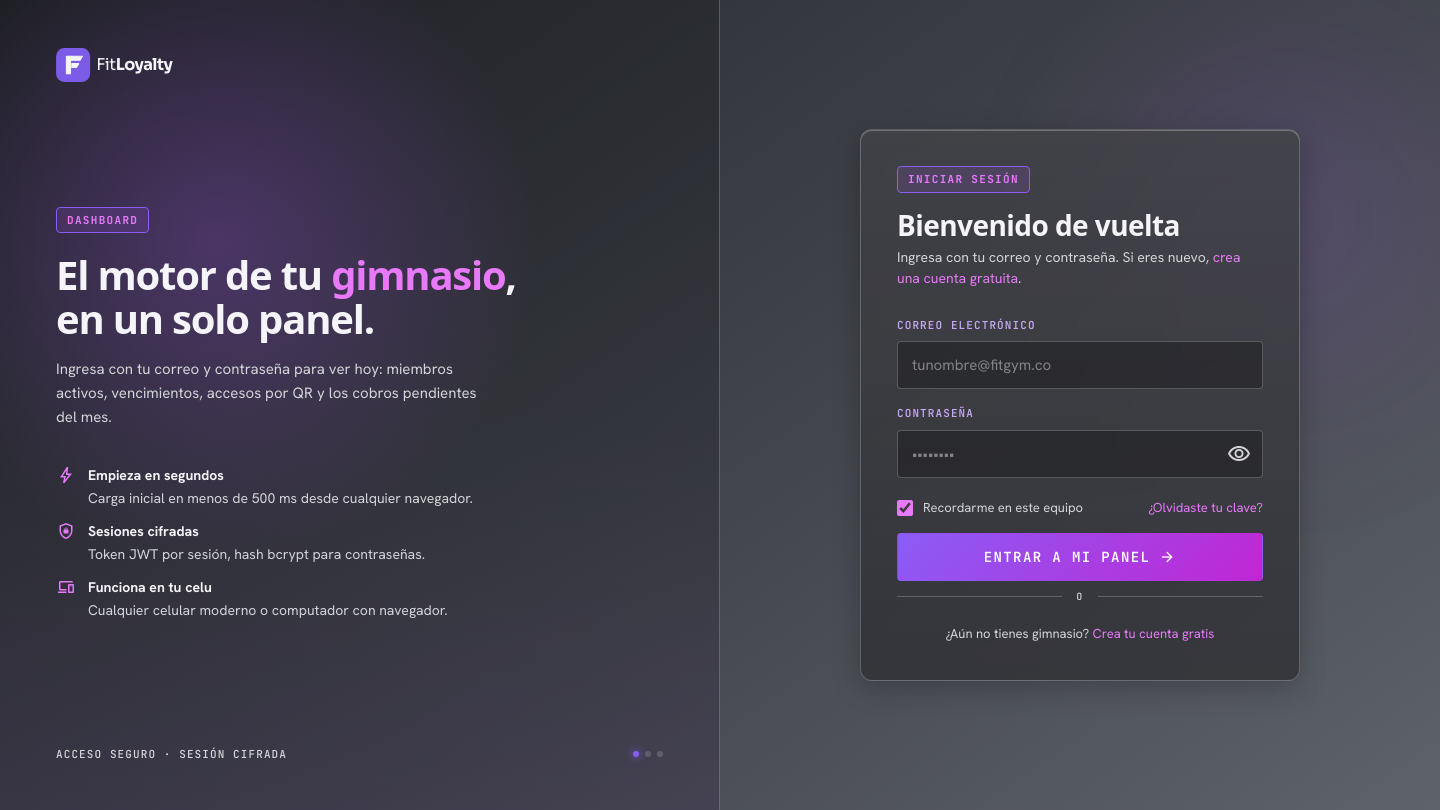
Test: LoginPage › should show and hide the password with the eye button
In the password field labelled "Contraseña": {"x": 1080, "y": 454} [897,430,1263,478], type "clave123"
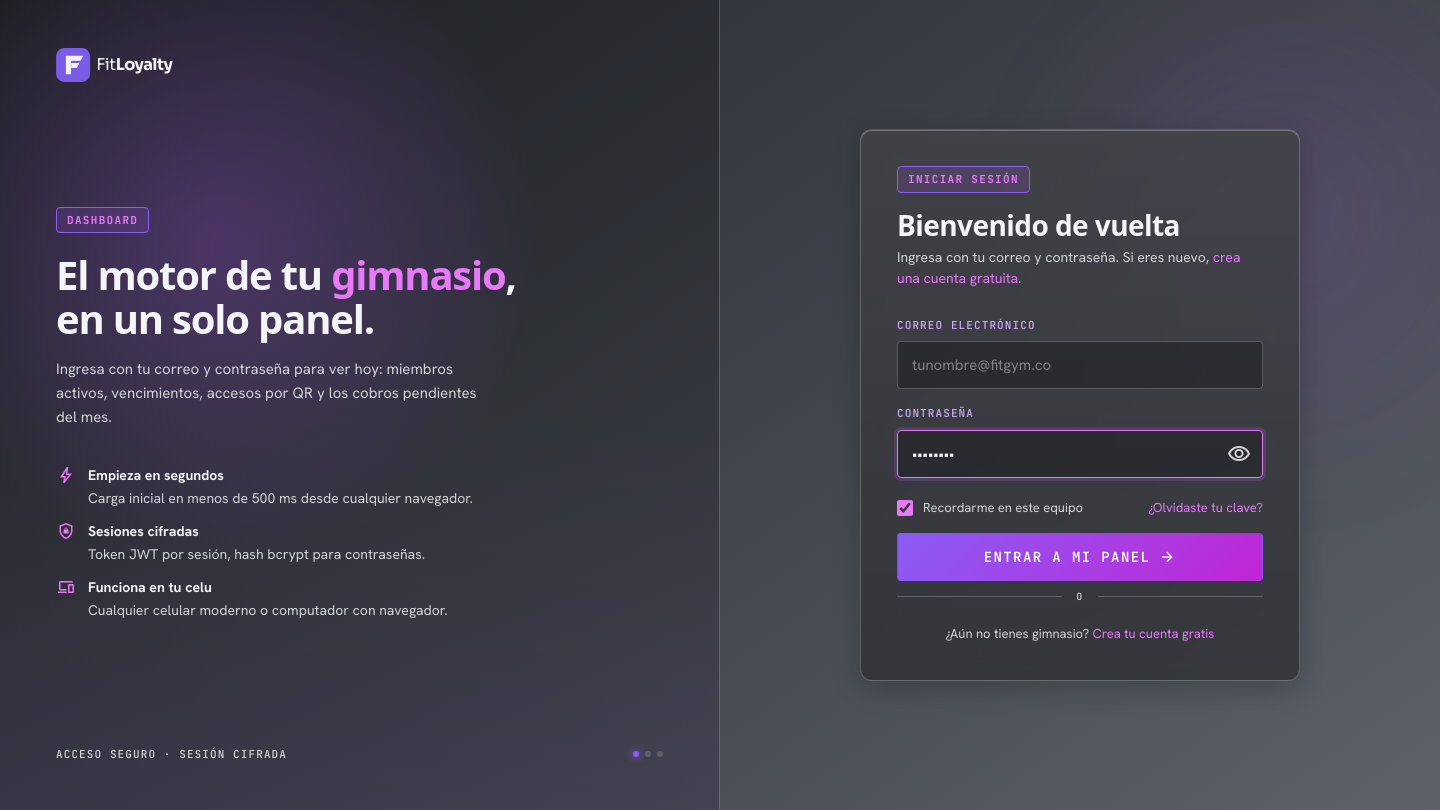
Click the button named "Mostrar contraseña": {"x": 1239, "y": 454} [1223,438,1255,470]
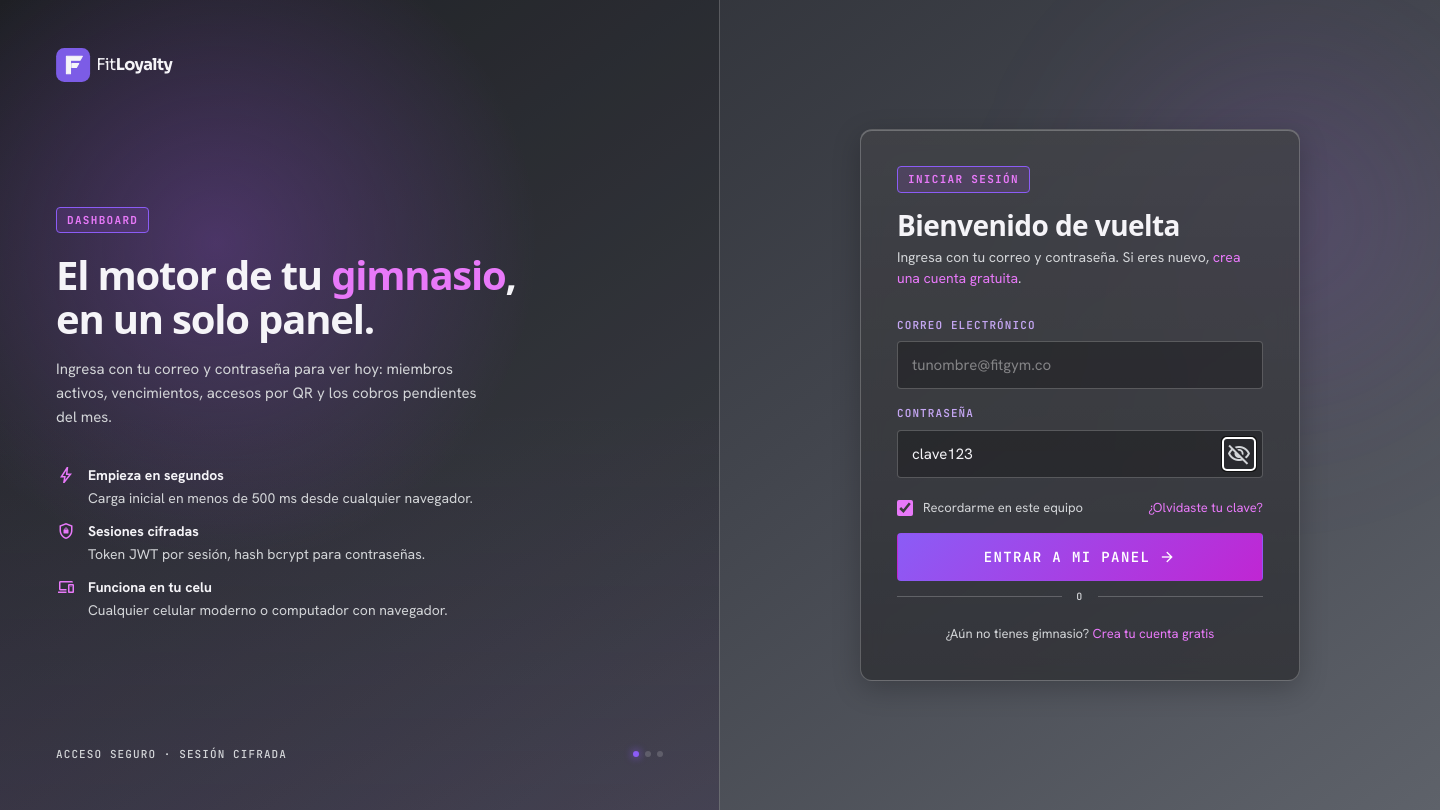
Result: the field labelled "Contraseña" shows its text at [897,430,1263,478]
Click the button named "Ocultar contraseña": {"x": 1239, "y": 454} [1223,438,1255,470]
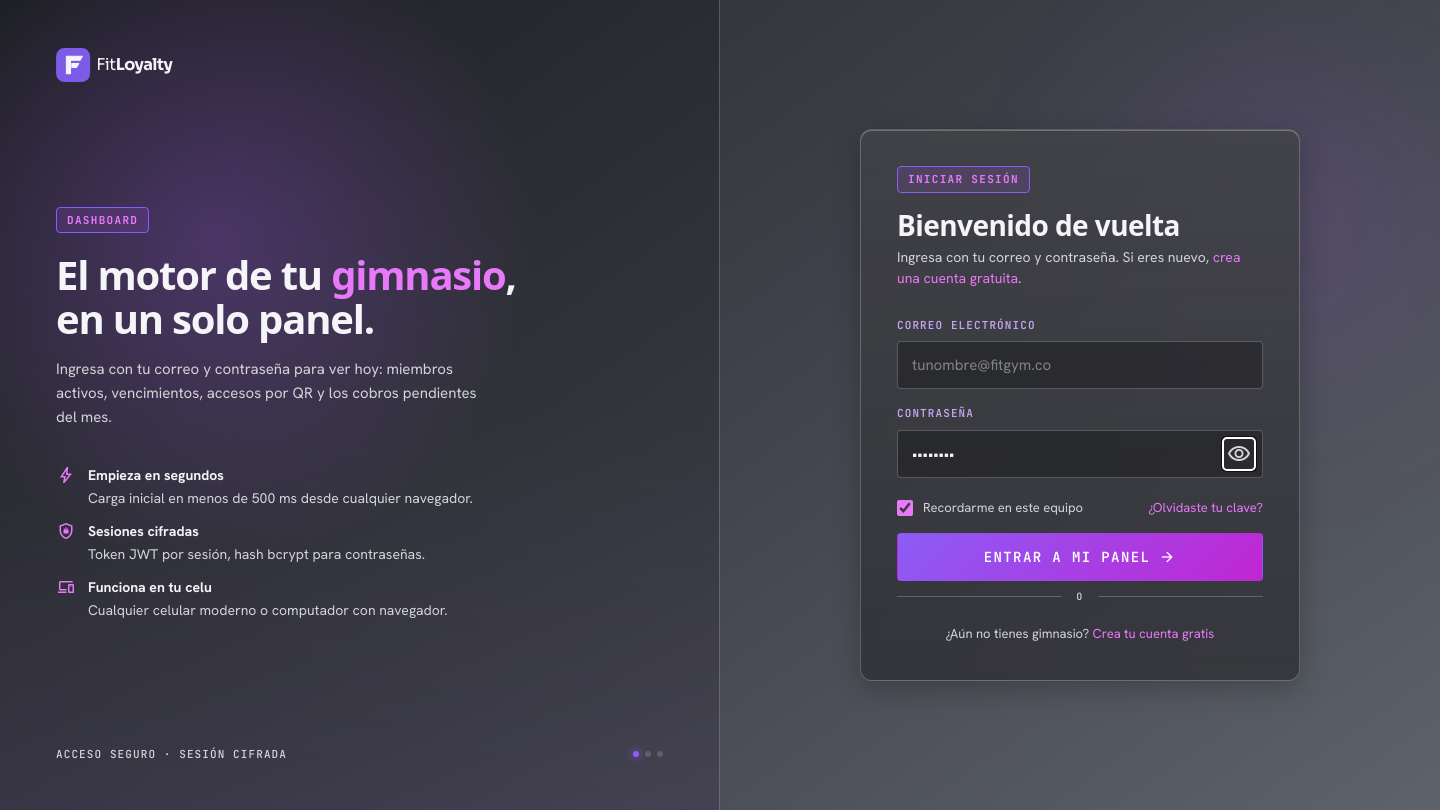
Result: the password field labelled "Contraseña" hides its text at [897,430,1263,478]
